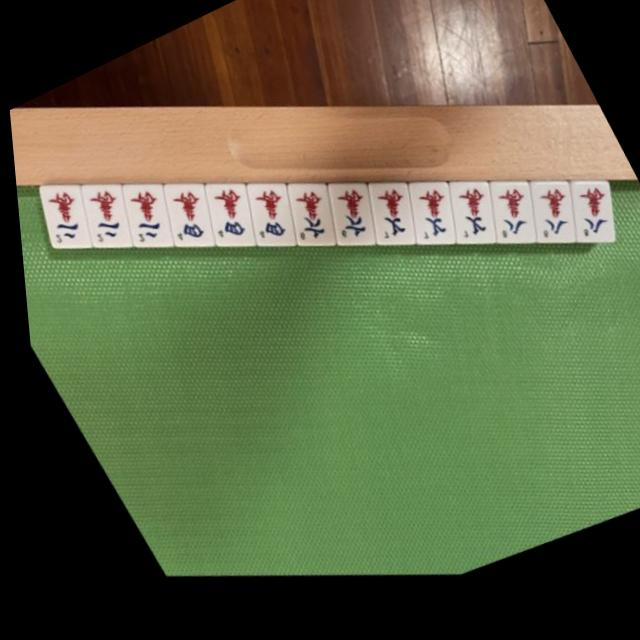sc2: (56, 174, 154, 277), (98, 175, 193, 275), (18, 176, 111, 276)
sc4: (138, 172, 236, 276), (219, 173, 314, 272), (180, 174, 274, 273)
sc6: (260, 172, 355, 272), (300, 172, 393, 270)
sc7: (340, 171, 433, 269), (420, 170, 512, 267), (381, 171, 472, 268)
sc8: (460, 171, 551, 267), (500, 171, 590, 267), (540, 172, 628, 266)
